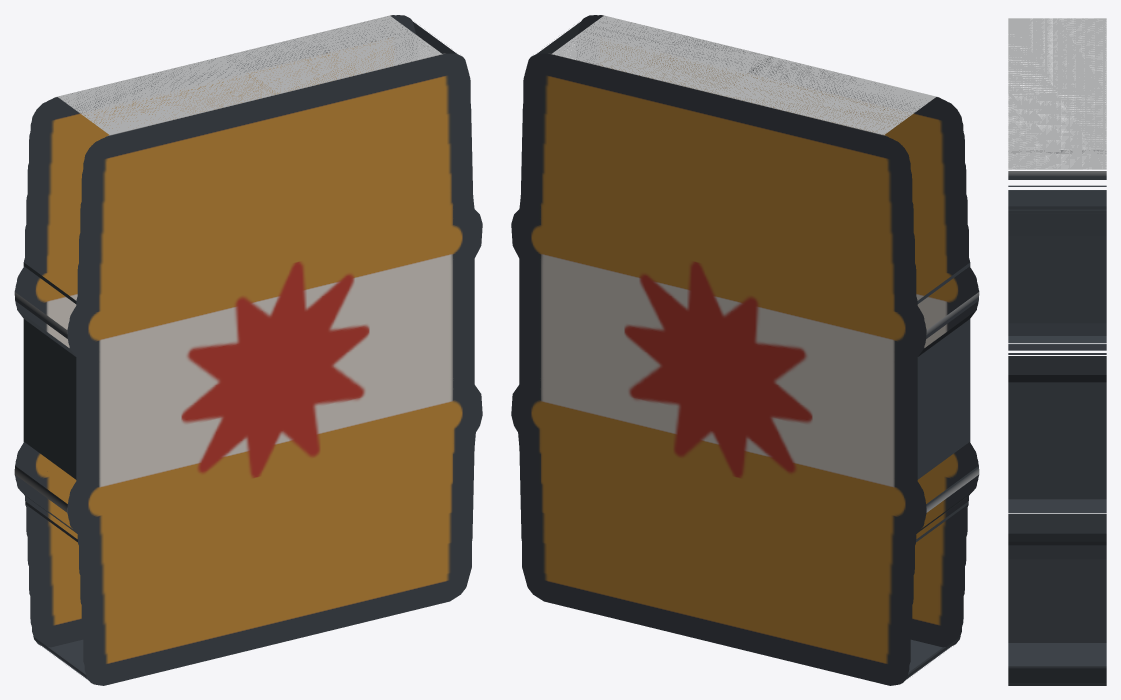
File: powerup-explodomat-model.fbx
3 views of the same model, side by side, from view 1: azimuth 30°, elevation 25°; view 2: azimuth 150°, elevation 25°; view 3: azimuth 270°, elevation 25° (orthographic). The views are drawn at different scales.
Parts seen in each view (by area): view 1: Object.1; view 2: Object.1; view 3: Object.1.
Part boxes in pixels (box(x1,y1,x2,y2)): Object.1: box(14, 15, 482, 685); Object.1: box(511, 15, 979, 685); Object.1: box(1008, 18, 1106, 685).
Bounding box in the file's own units: 7747 × 9779 × 1700.
